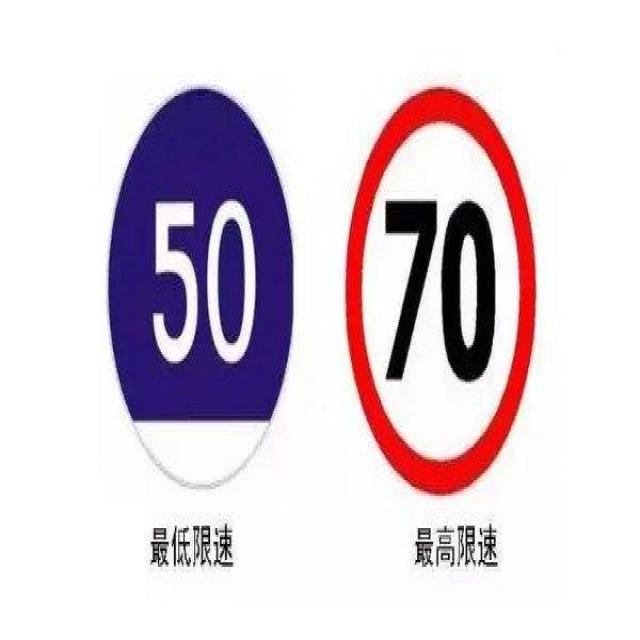speed limit 50: (106, 87, 294, 493)
speed limit 70: (346, 87, 537, 497)
